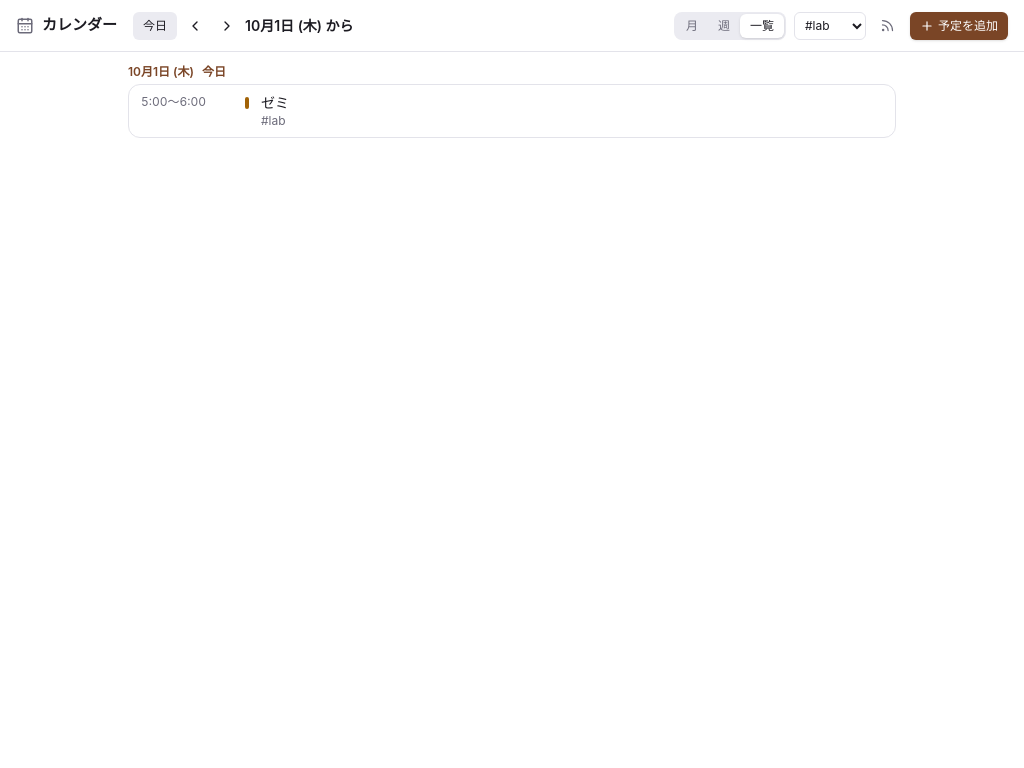
Scenario: the workspace calendar opened on a channel (2026-10-28, its 「予定」 tab having gone) › shows only that channel's events, with their channel, and a new event starts in its calendar, announced
Expected: the dropdown named "絞り込み" shows "#lab", x1=794 y1=12 x2=866 y2=40
Expected: the text "ゼミ" is shown, x1=261 y1=94 x2=289 y2=111
Click the button "予定を追加": [959, 26] box x1=910 y1=12 x2=1008 y2=40
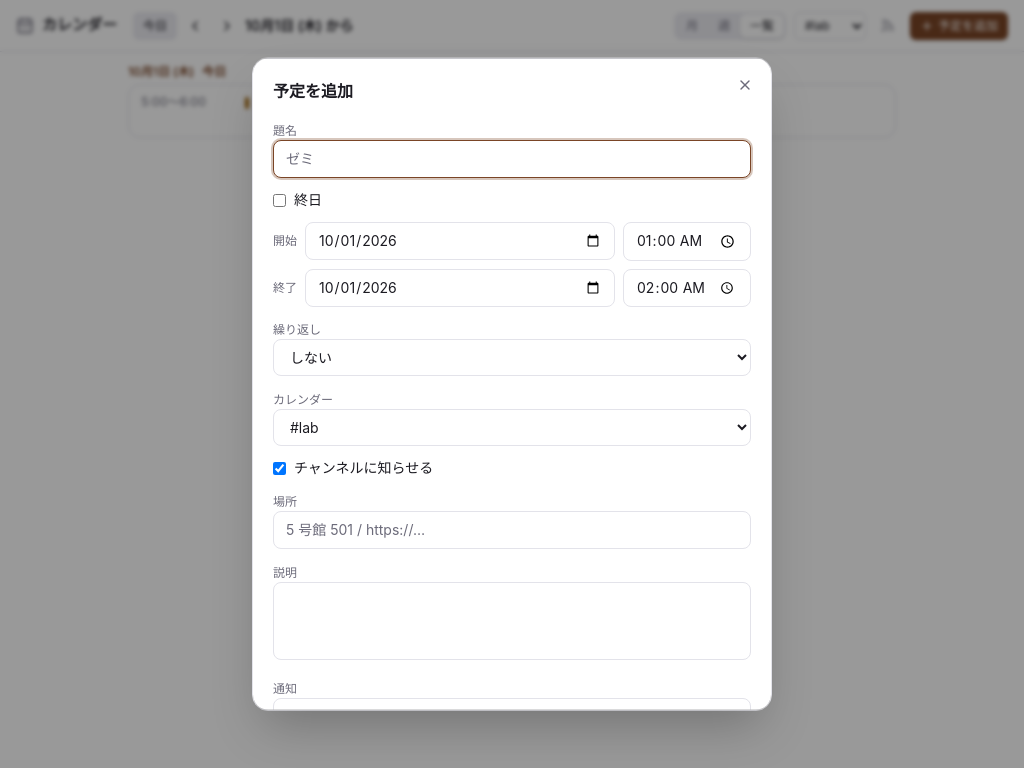
Result: the dropdown labelled "カレンダー" shows "#lab" at x1=273 y1=409 x2=751 y2=446
Result: the checkbox labelled "チャンネルに知らせる" is checked at x1=273 y1=462 x2=286 y2=474
